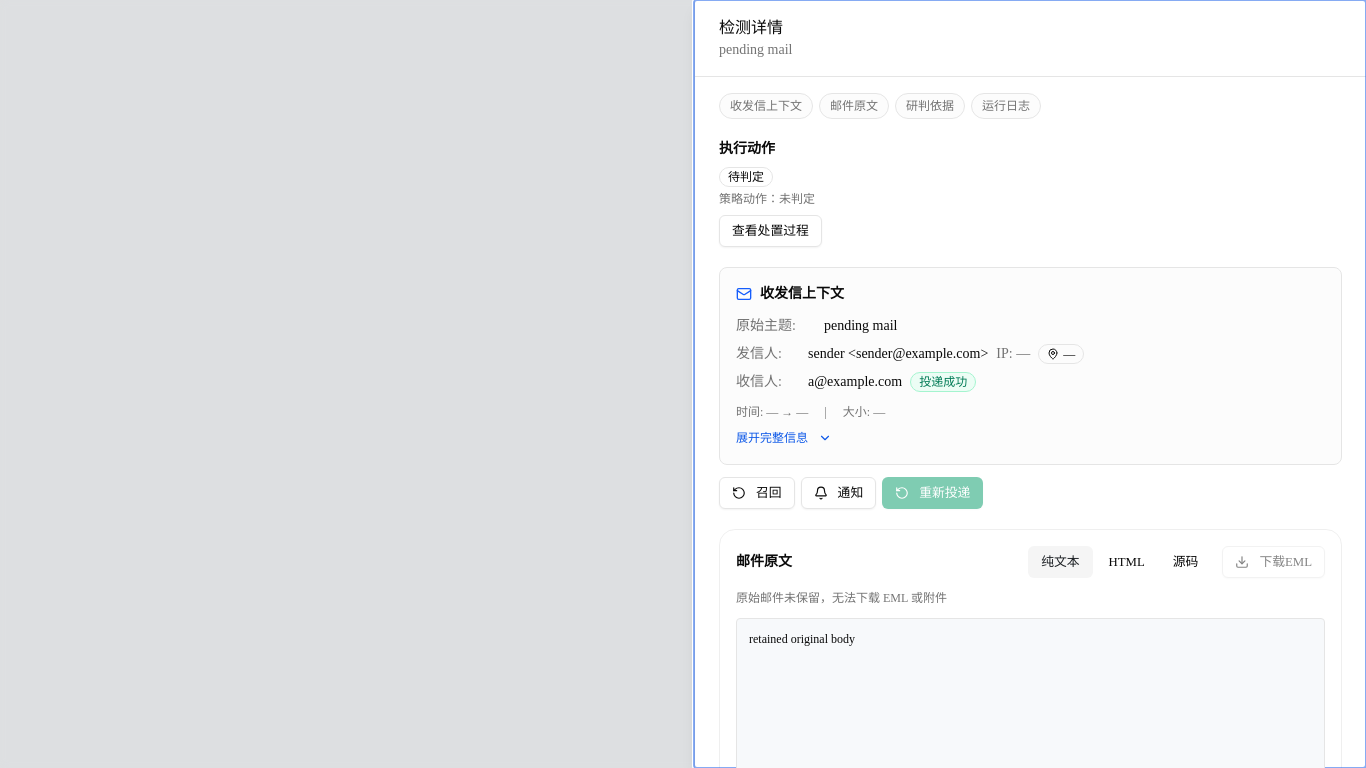
DetectionDetailSheet disposal capability chain › loads the associated original and lazy preview while respecting unavailable EML and redelivery
The image size is (1366, 768).
Expected: the element with test id "phishing-mail-original" shows "retained original body", left=749, top=632, right=855, bottom=646
Expected: the button with test id "email-disposal-overview-recipient-action-redeliver" is disabled, left=882, top=477, right=983, bottom=509
Click the button with test id "email-disposal-workbench-content-view-raw".
click(1186, 562)  # box left=1161, top=546, right=1210, bottom=578
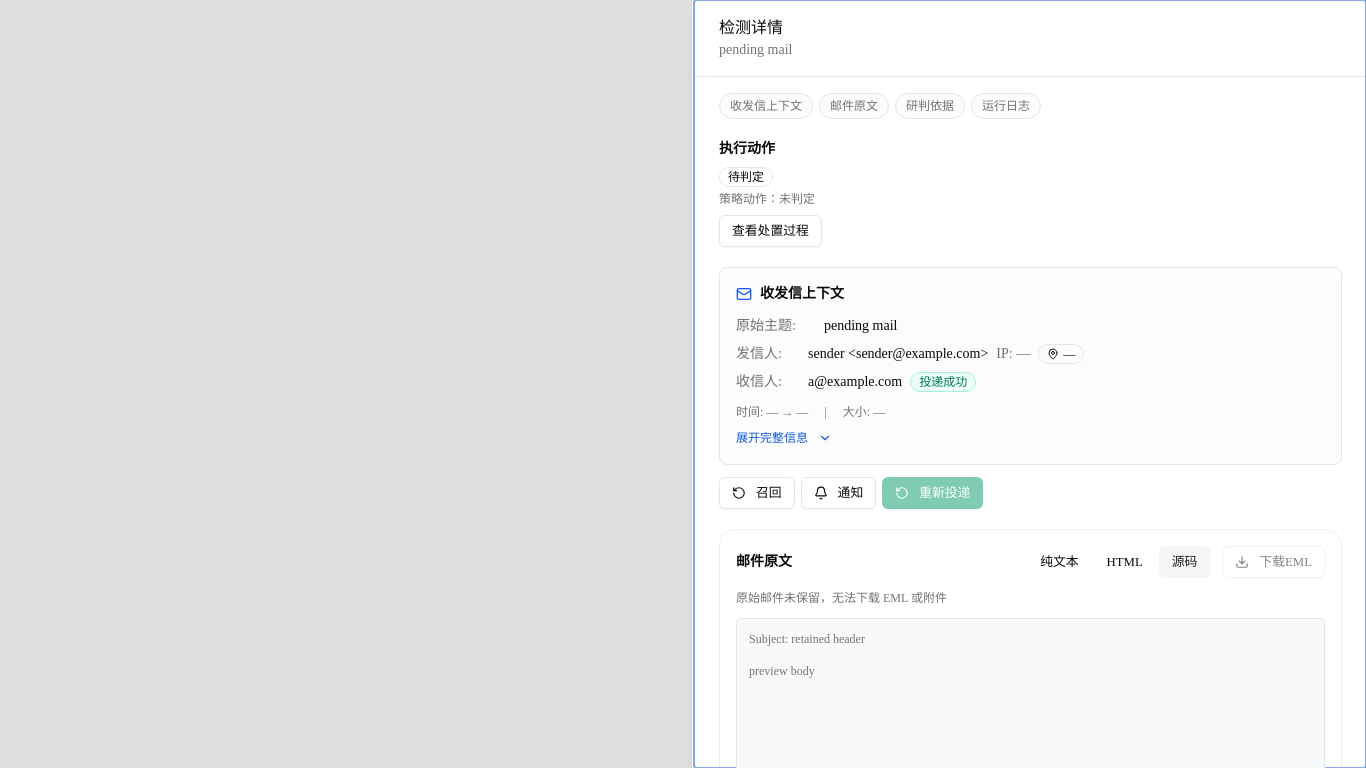
Now the text "Subject: retained header preview body" is shown, box left=749, top=632, right=865, bottom=678
